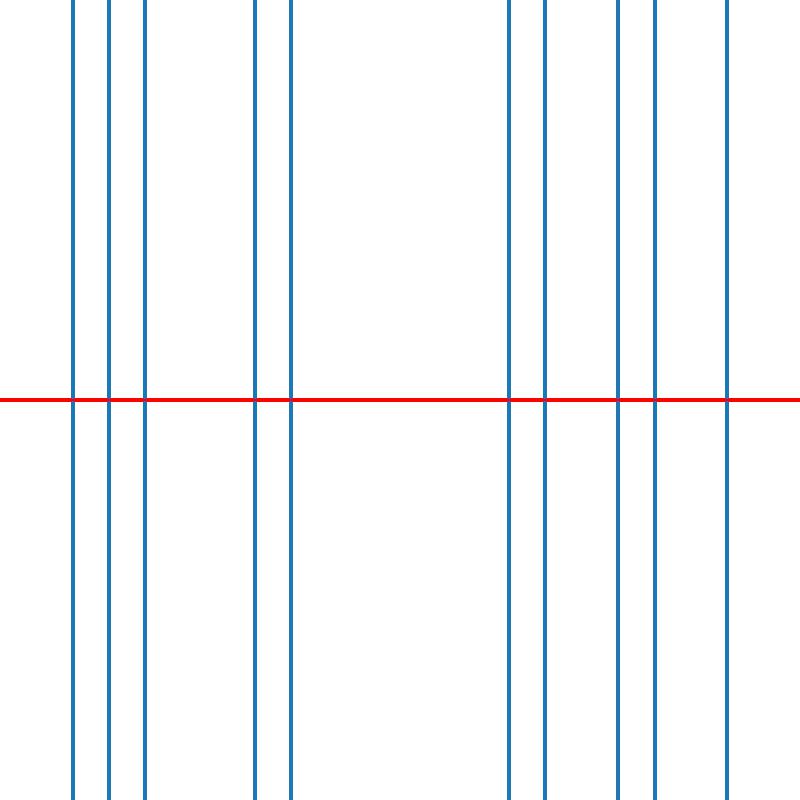root: (541, 396, 549, 404), (141, 396, 149, 404), (650, 396, 658, 404), (250, 396, 258, 404), (614, 396, 621, 404), (69, 396, 76, 404), (505, 396, 512, 404), (287, 396, 294, 404), (723, 396, 730, 404), (105, 396, 112, 404)
